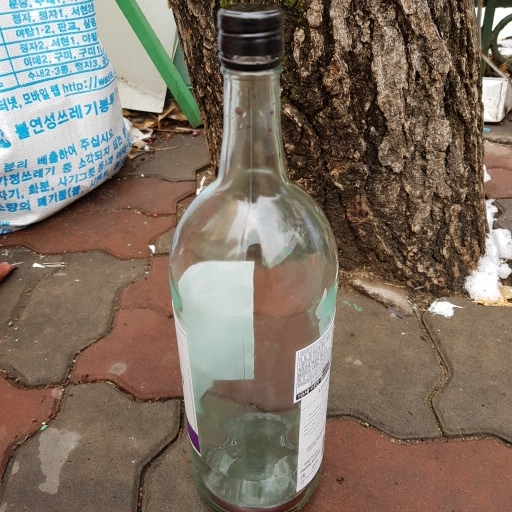Glass_2: (169, 7, 341, 510)
